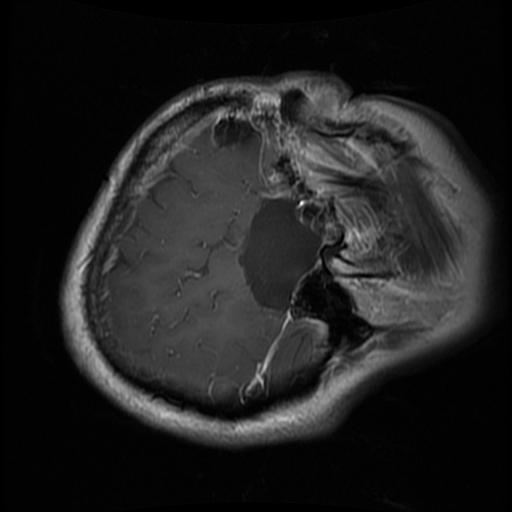glioma: (236, 199, 322, 312)
